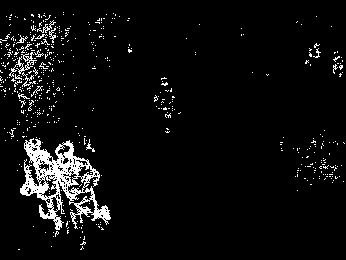person: (58, 138, 114, 250), (18, 138, 64, 244)
